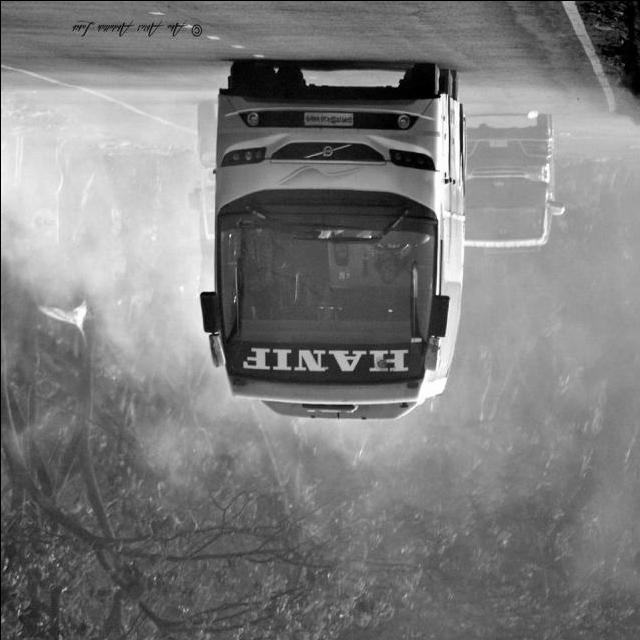bus: (199, 61, 468, 421)
